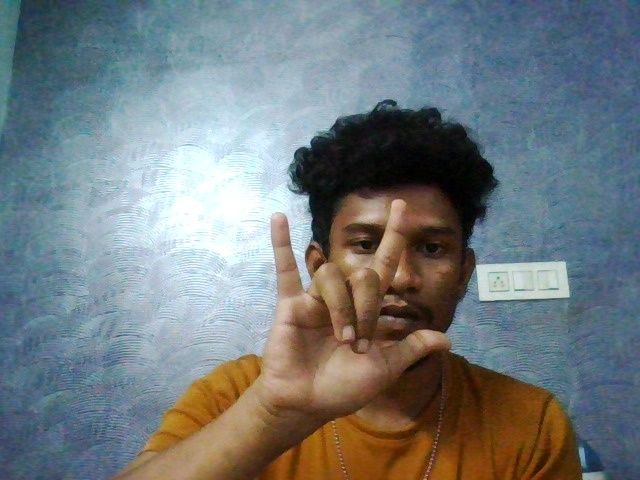i love you: (247, 202, 457, 420)
